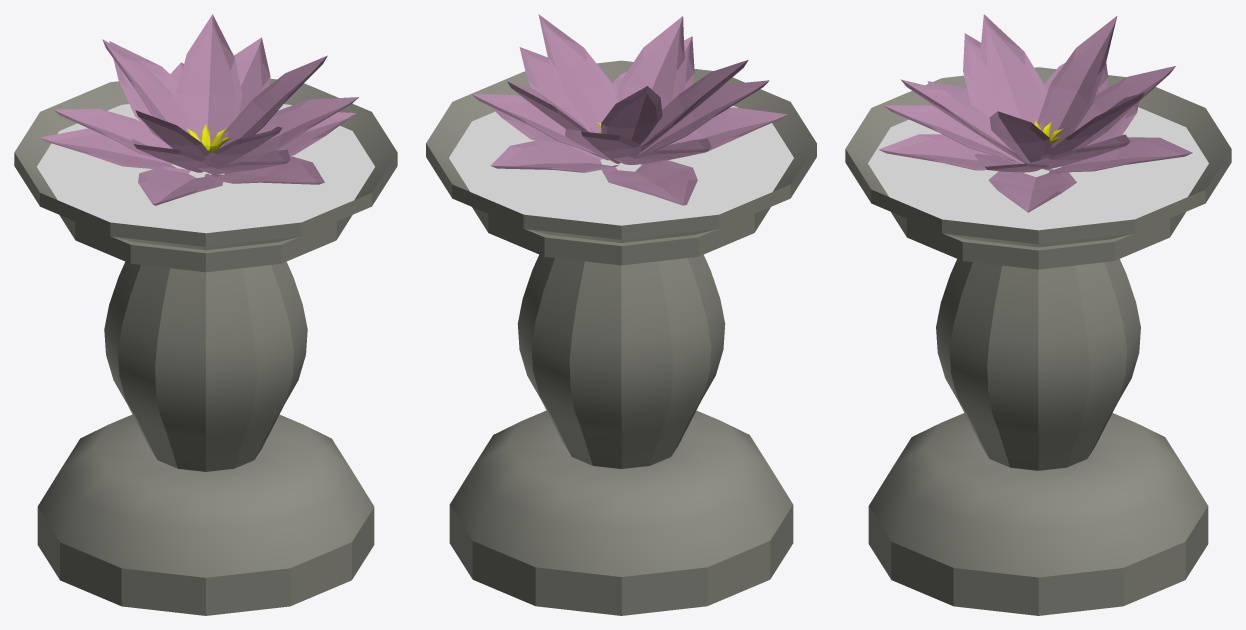
The model's file is McGuffin_Model_01.fbx.
The picture shows the model from 3 angles, left to right: view 1: azimuth 30°, elevation 25°; view 2: azimuth 150°, elevation 25°; view 3: azimuth 270°, elevation 25°; orthographic projection.
Parts seen in each view (by area): view 1: polySurface40; view 2: polySurface40; view 3: polySurface40.
Boxes of the visible parts, x1=… form: polySurface40: x1=14, y1=14, x2=397, y2=615; polySurface40: x1=426, y1=14, x2=816, y2=615; polySurface40: x1=845, y1=14, x2=1231, y2=615.
Bounding box in the file's own units: 3.11 × 4.41 × 3.11.
